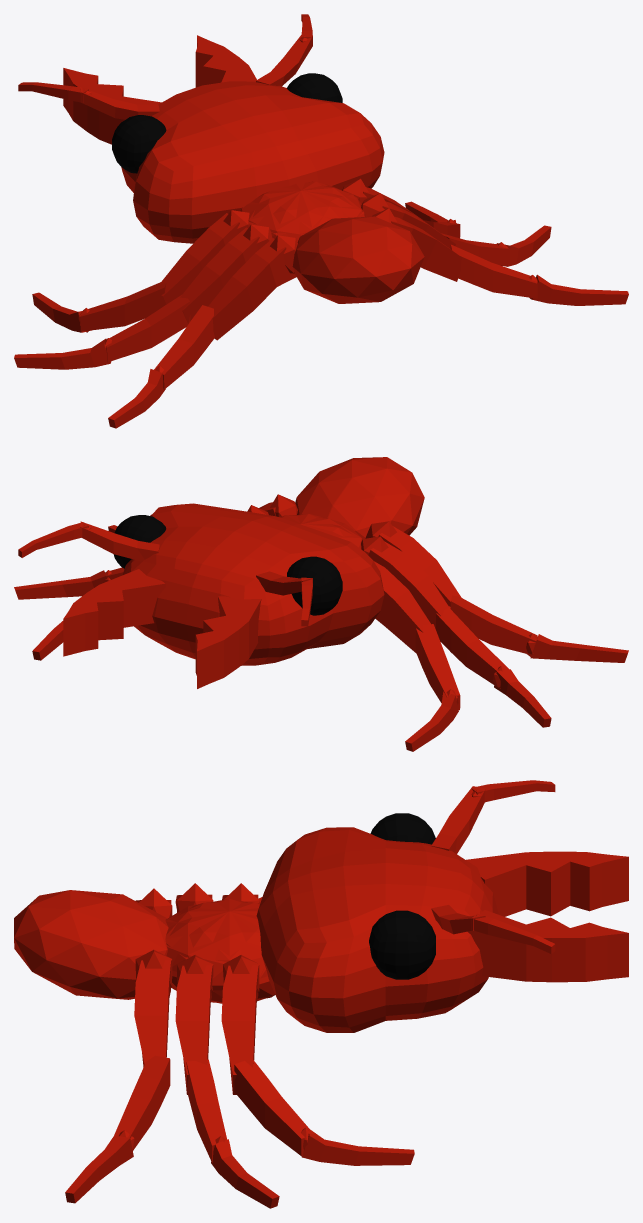
The model's file is Minion.fbx.
3 renders of one model, top to bottom at view 1: azimuth 30°, elevation 25°; view 2: azimuth 150°, elevation 25°; view 3: azimuth 270°, elevation 25°, orthographic. The views are drawn at different scales.
Visible parts, largest first — view 1: head; view 2: head; view 3: head.
Part boxes in pixels (box(x1,y1,x2,y2)): head: box(14, 14, 628, 428); head: box(14, 457, 628, 751); head: box(14, 780, 628, 1208).
Size of the model in its own units: 0.6382 by 0.199 by 0.5416.
